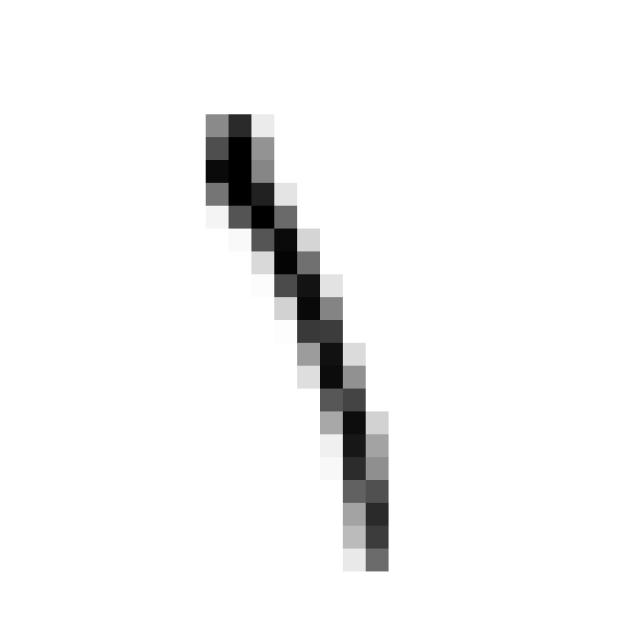1 -one-: (183, 94, 401, 580)
